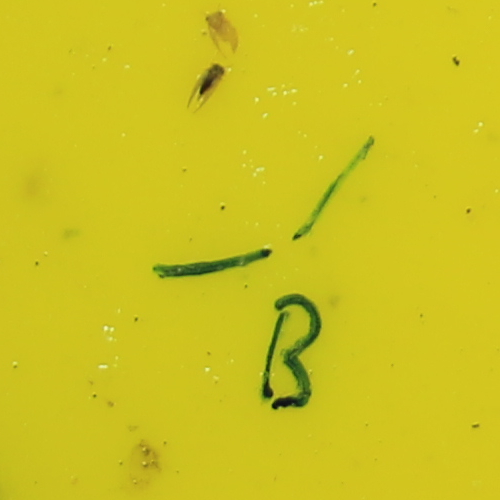Platyobria: (204, 8, 236, 51)
psylla: (199, 63, 226, 95)
